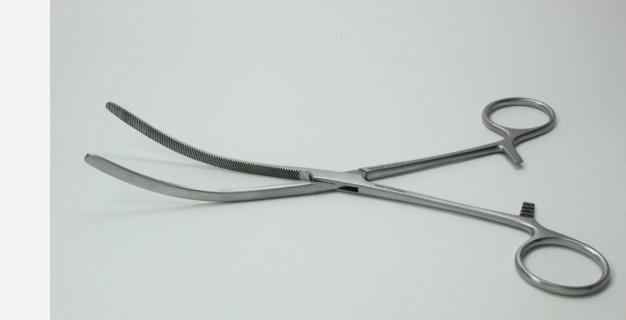Doyel Instestinal Forceps: (83, 92, 614, 302)
